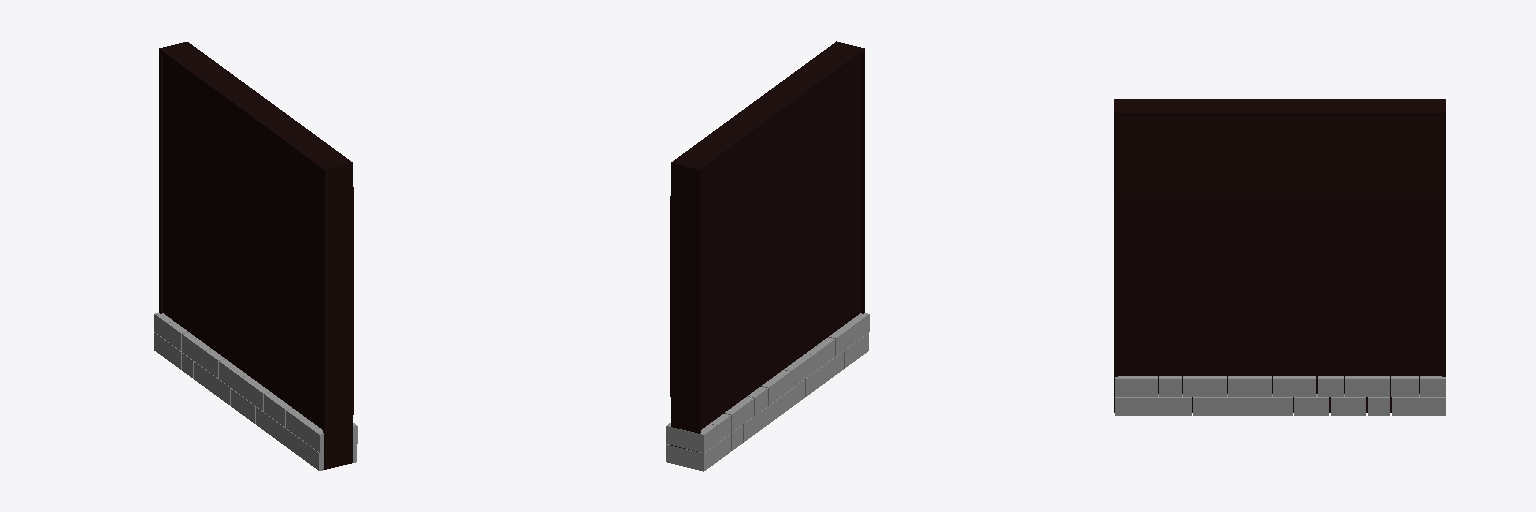
Rendered from cafeWall3.obj.
The picture shows the model from 3 angles: view 1: azimuth 30°, elevation 25°; view 2: azimuth 150°, elevation 25°; view 3: azimuth 270°, elevation 25°; orthographic projection.
Visible parts, largest first — view 1: BrickMedium_Cube.029; view 2: BrickMedium_Cube.029; view 3: BrickMedium_Cube.029.
Boxes of the visible parts, <box> form: BrickMedium_Cube.029: <box>154,42,357,470</box>; BrickMedium_Cube.029: <box>666,41,869,471</box>; BrickMedium_Cube.029: <box>1114,99,1445,415</box>.
Bounding box in the file's own units: 0.132 × 1 × 1.